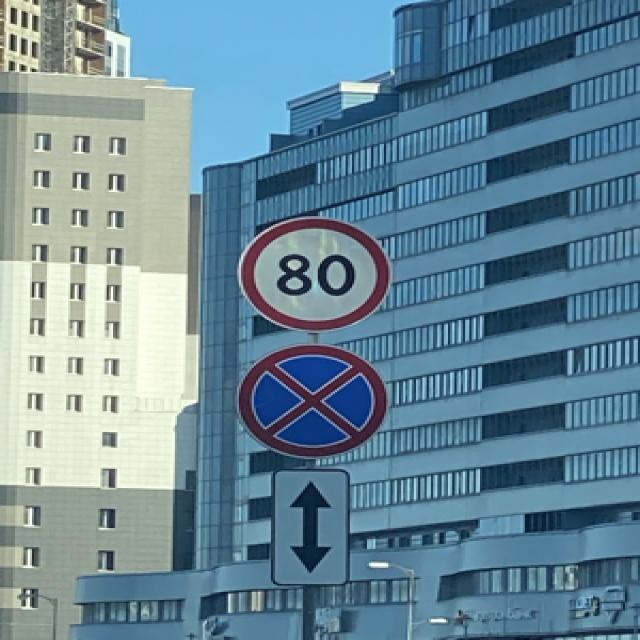speedlimit: (233, 218, 386, 331)
